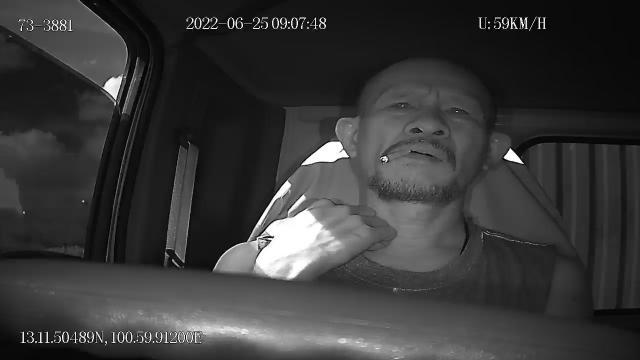SafeDriving: (436, 98, 476, 127), (381, 90, 421, 119)
Smoking: (379, 148, 411, 164)
